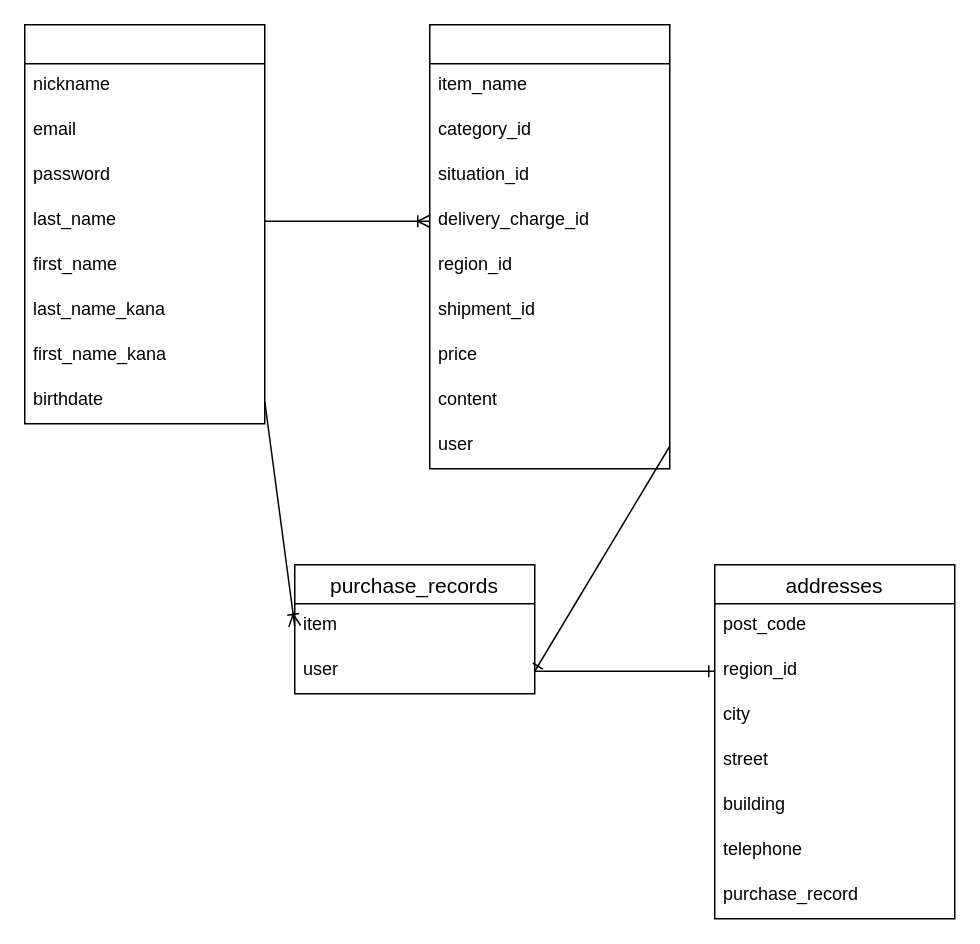
Some shapes in this 980 by 944 pixel diagram are drawn without their labels. The box of each missing label's shape, as (x1, y1, x2, y2) in pixels:
items: (428, 23, 670, 469)
users: (23, 23, 265, 424)
